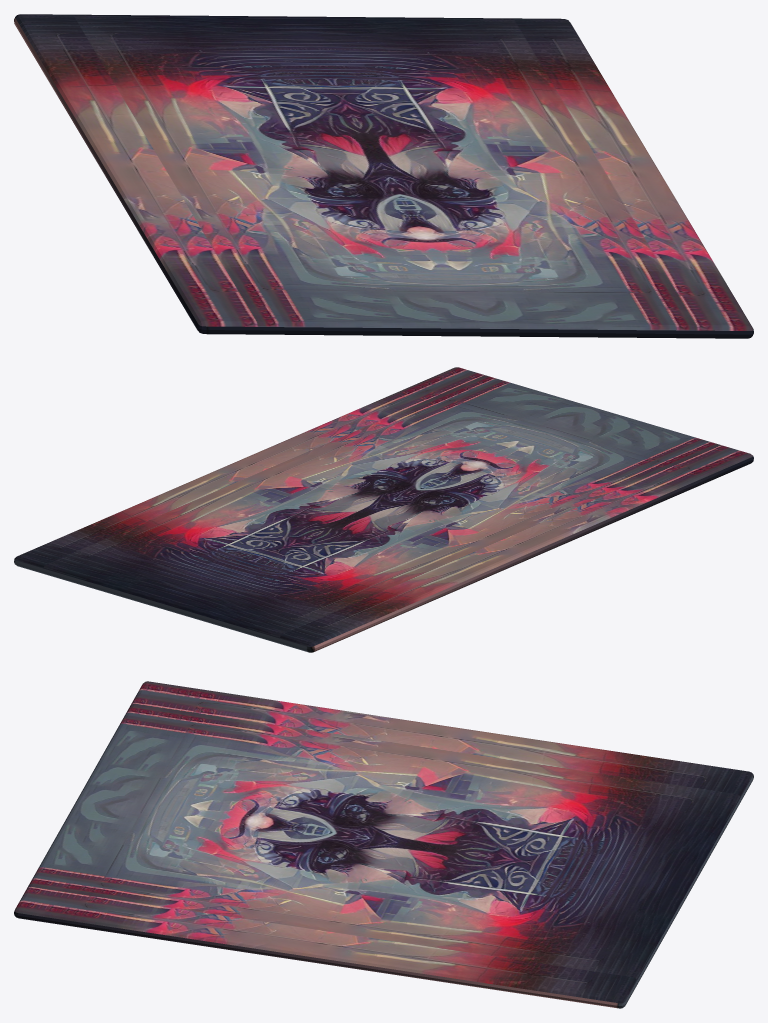
The model's file is StandardCard_V2.fbx.
3 renders of one model, top to bottom at view 1: azimuth 30°, elevation 25°; view 2: azimuth 150°, elevation 25°; view 3: azimuth 270°, elevation 25°, orthographic. The views are drawn at different scales.
Parts seen in each view (by area): view 1: Cube.024; view 2: Cube.024; view 3: Cube.024.
Part boxes in pixels (x1,y1,x2,y2): Cube.024: (14, 14, 753, 338); Cube.024: (14, 367, 753, 652); Cube.024: (14, 681, 753, 1008).
Size of the model in its own units: 339 by 43.17 by 408.
